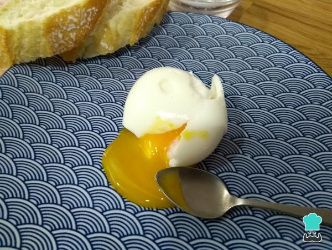egg: (98, 64, 238, 229)
